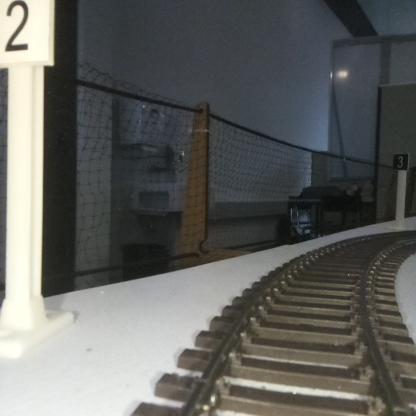black-info-3: (393, 152, 408, 226)
